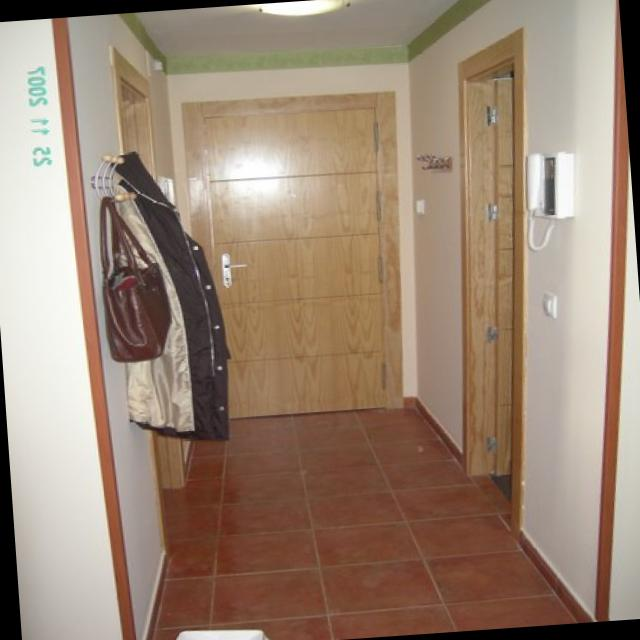door bars: (205, 106, 388, 420)
